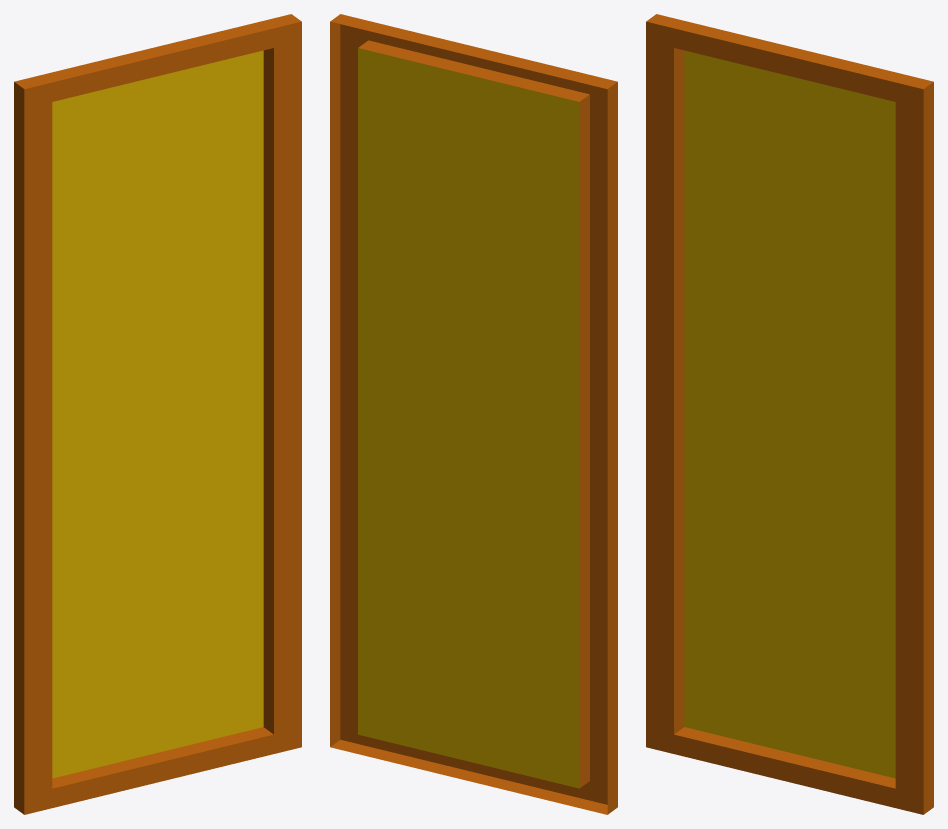
The model's file is PosterA_002.fbx.
The picture shows the model from 3 angles, left to right: view 1: azimuth 30°, elevation 25°; view 2: azimuth 150°, elevation 25°; view 3: azimuth 330°, elevation 25°; orthographic projection.
Parts seen in each view (by area): view 1: PosterA_002; view 2: PosterA_002; view 3: PosterA_002.
Part boxes in pixels (left/top/right/bottom): PosterA_002: left=14, top=14, right=301, bottom=814; PosterA_002: left=330, top=14, right=617, bottom=814; PosterA_002: left=646, top=14, right=933, bottom=814.
Size of the model in its own units: 108 by 270 by 7.
